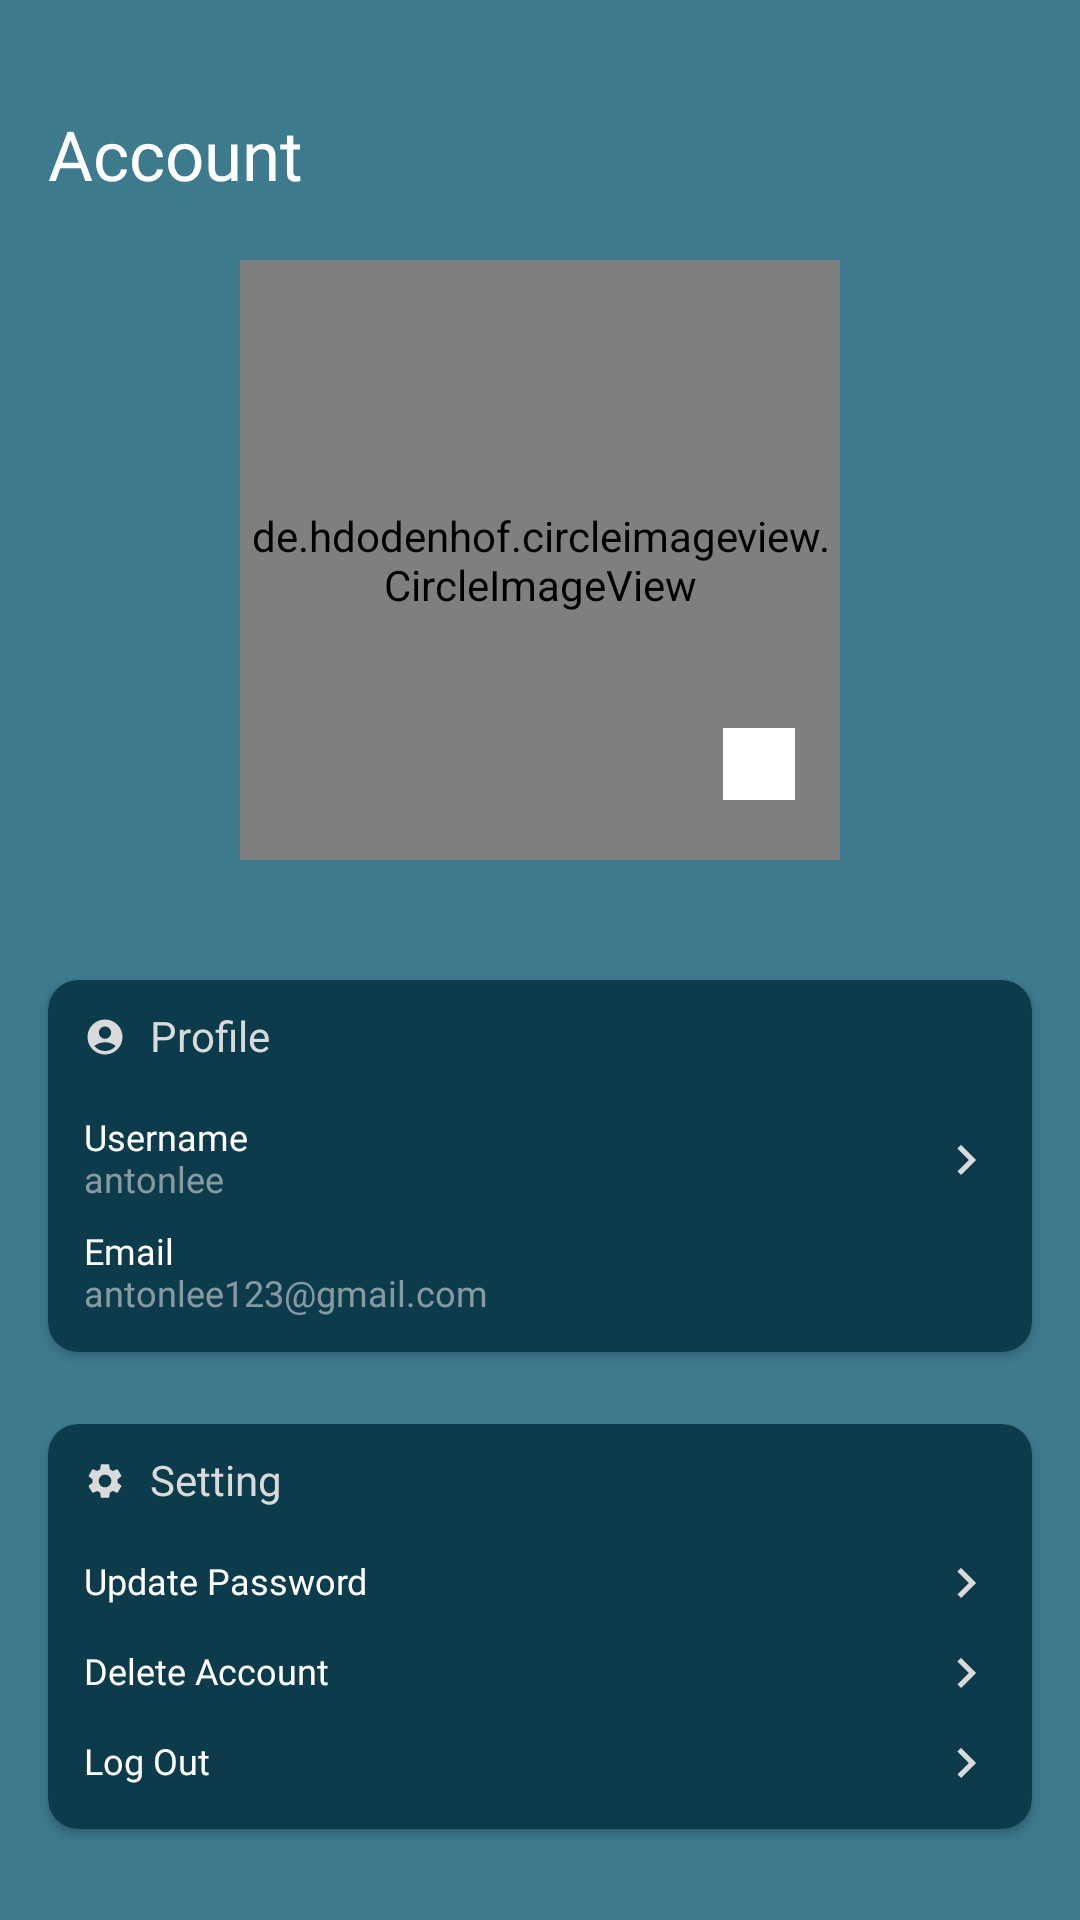

Screen size 1080 × 1920. Icon name, then its box in pixels as (x1, y1, x2, y2):
account circle: (87, 1019, 123, 1055)
arrow right: (957, 1145, 976, 1175), (957, 1568, 976, 1598), (957, 1658, 976, 1688), (957, 1748, 976, 1778)
